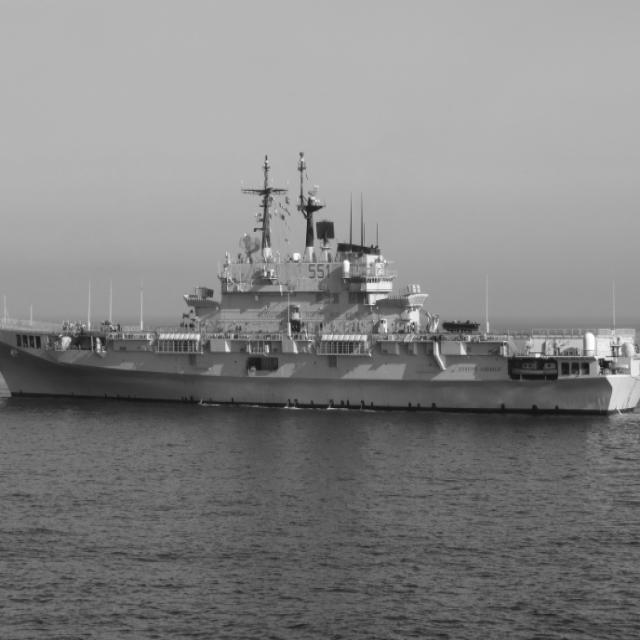Portanaves: (1, 145, 640, 421)
